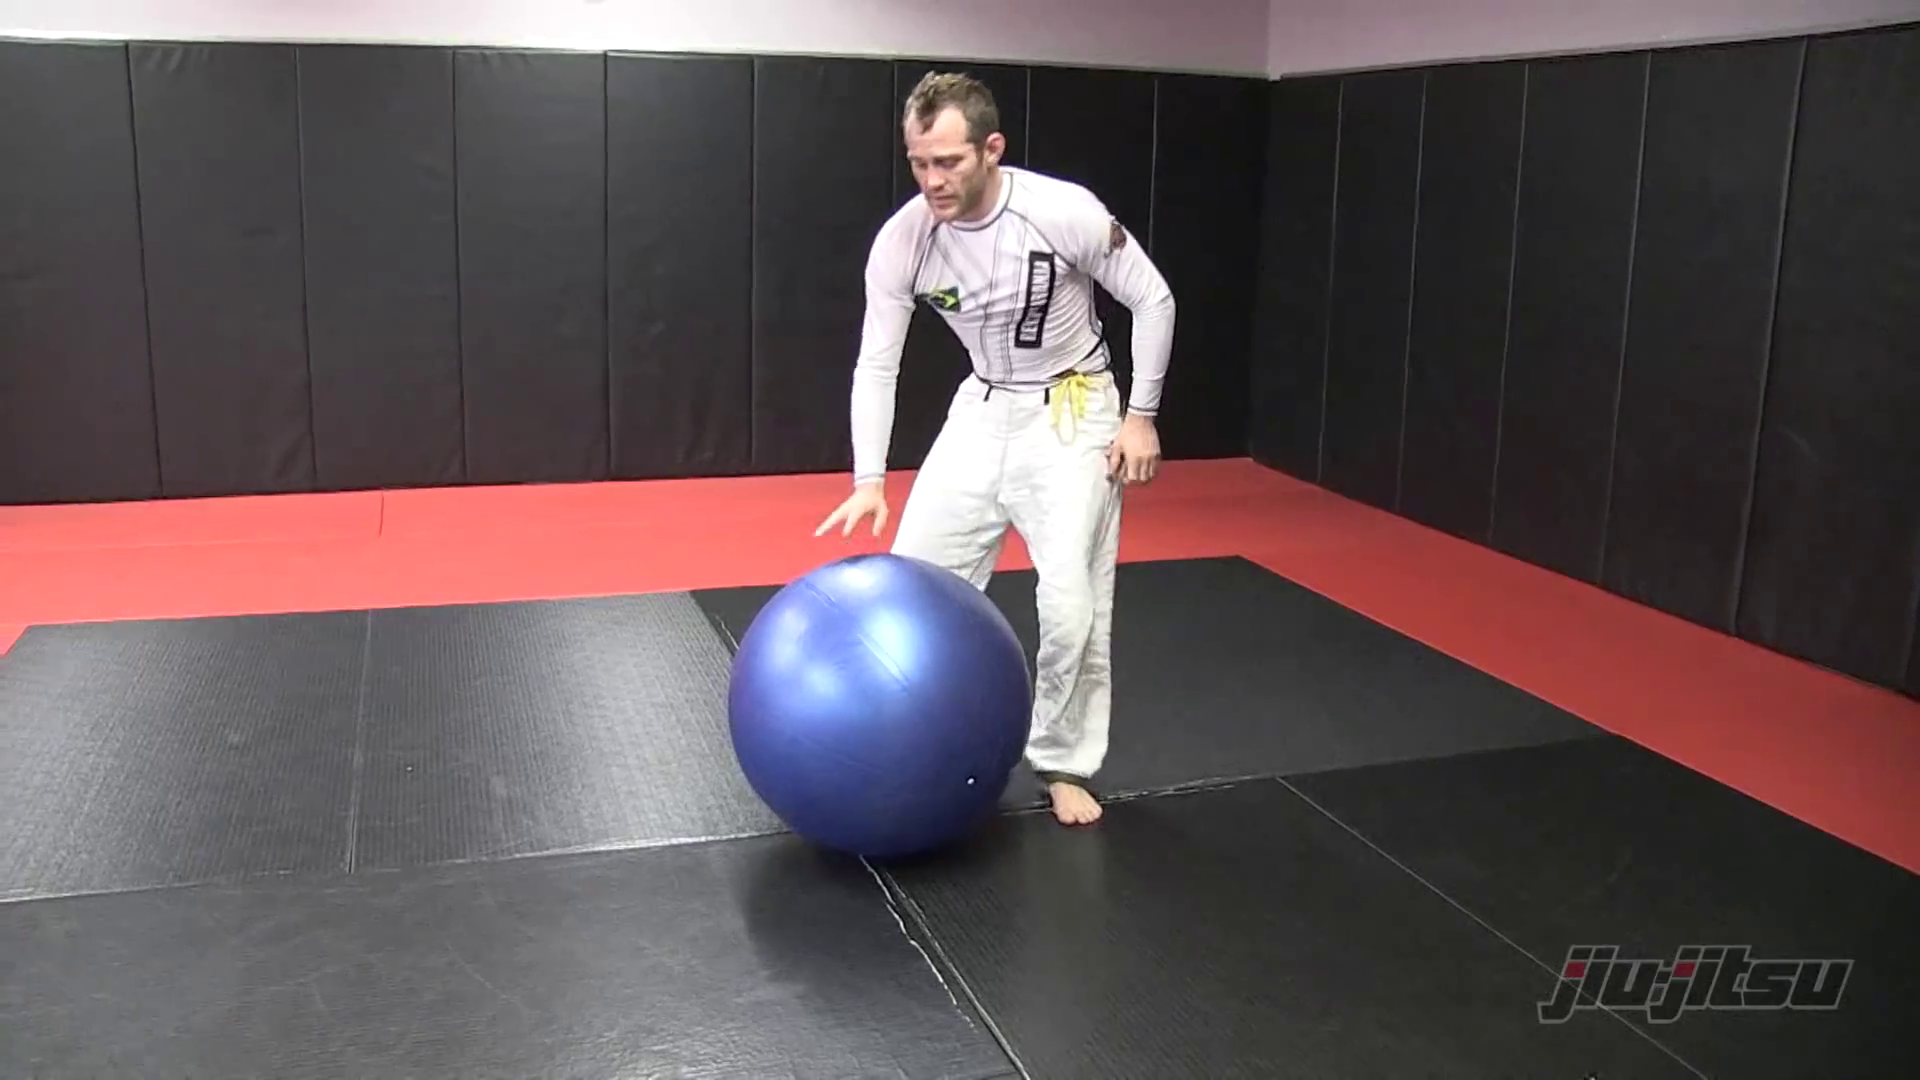yogaball: (695, 541, 1046, 876)
